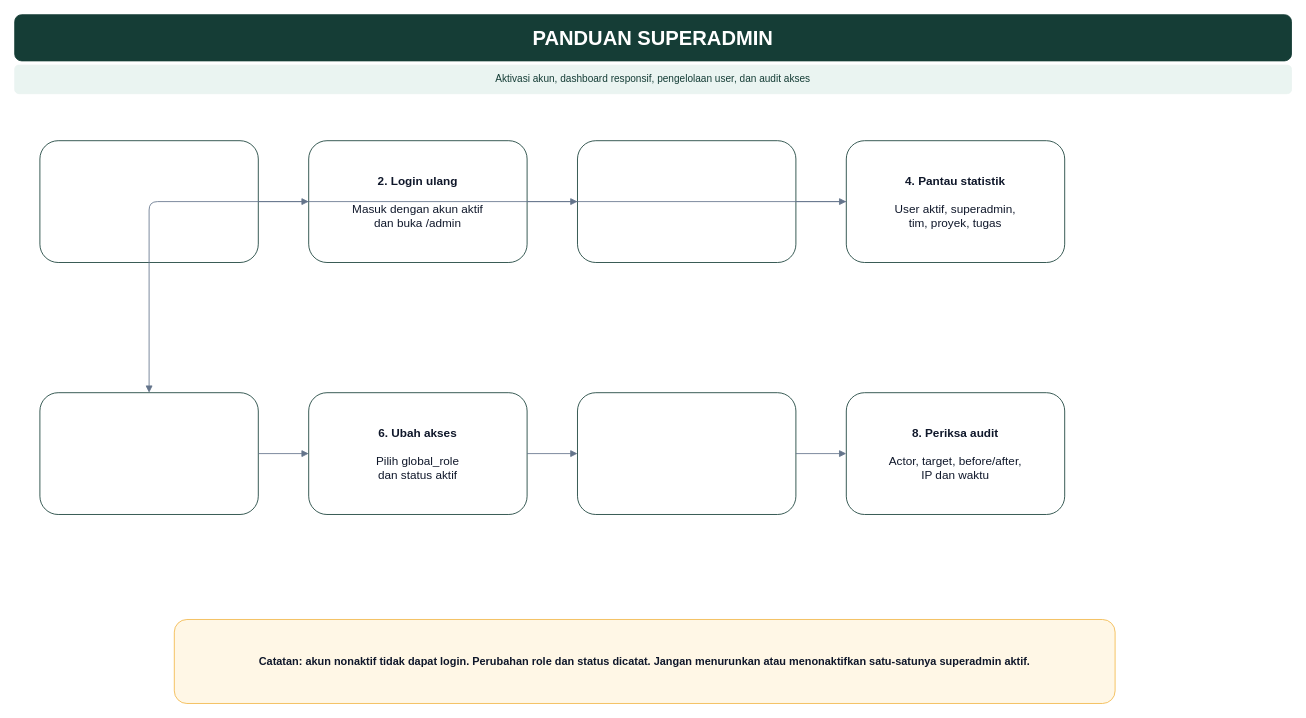
Image size: 1306x718. Some labels were removed from this diagram. The centre of each missing label's shape, as x and y in pixels:
1. Promosikan akun users:promote-superadmin email --force: (x=148, y=201)
3. Gunakan sidebar Collapse pada desktop drawer pada mobile: (x=686, y=201)
5. Filter pengguna Nama/email, role, dan status akun: (x=148, y=453)
7. Simpan perubahan Validasi melindungi superadmin aktif terakhir: (x=686, y=453)
